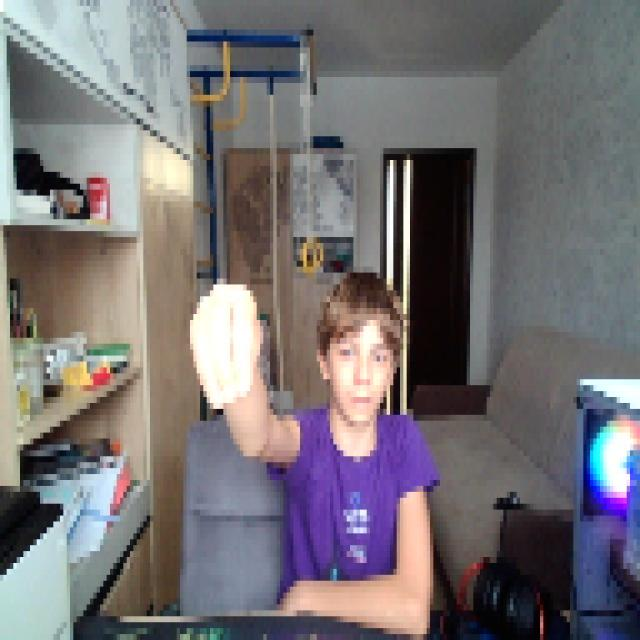left_click: (187, 273, 260, 403)
